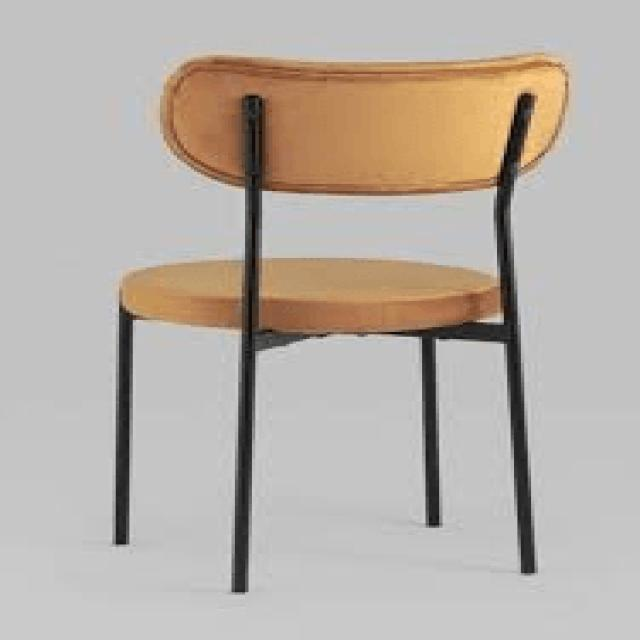chair: (108, 48, 580, 597), (120, 48, 574, 316)
